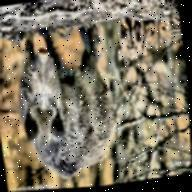boar: (9, 18, 127, 186)
